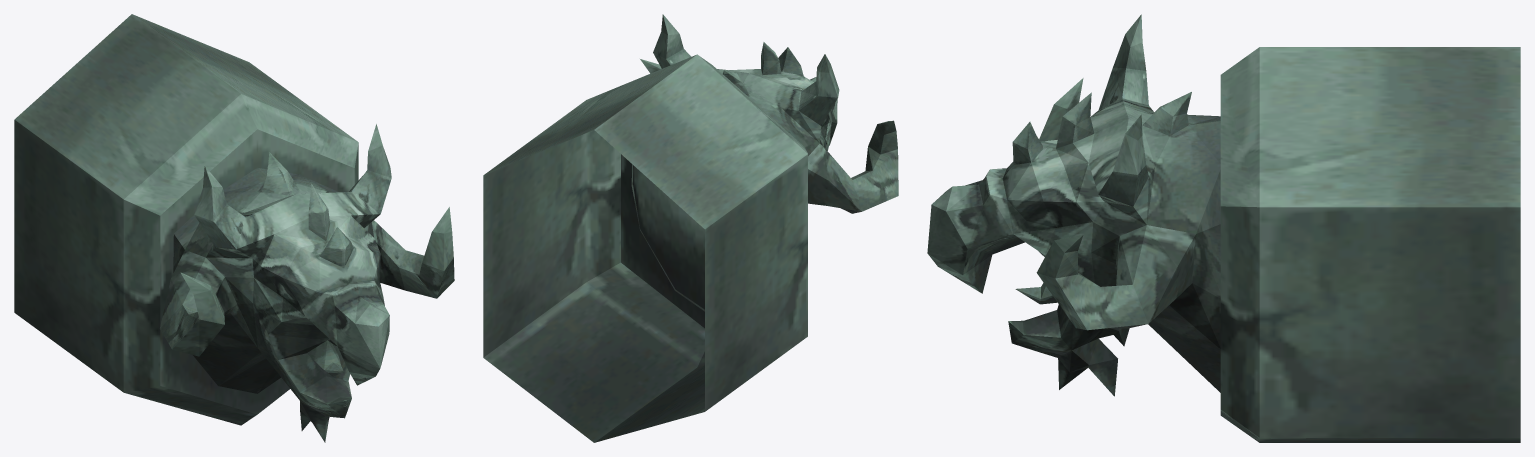
File: crypt_wall_gargoyle02.fbx
3 renders of one model, left to right at view 1: azimuth 30°, elevation 25°; view 2: azimuth 150°, elevation 25°; view 3: azimuth 270°, elevation 25°, orthographic. The views are drawn at different scales.
Visible parts, largest first — view 1: obj0.086; view 2: obj0.086; view 3: obj0.086.
Part boxes in pixels (x1,y1,x2,y2): obj0.086: (14, 14, 454, 442); obj0.086: (483, 14, 898, 442); obj0.086: (927, 14, 1520, 442).
Bounding box in the file's own units: 0.7749 × 0.8698 × 1.18.
